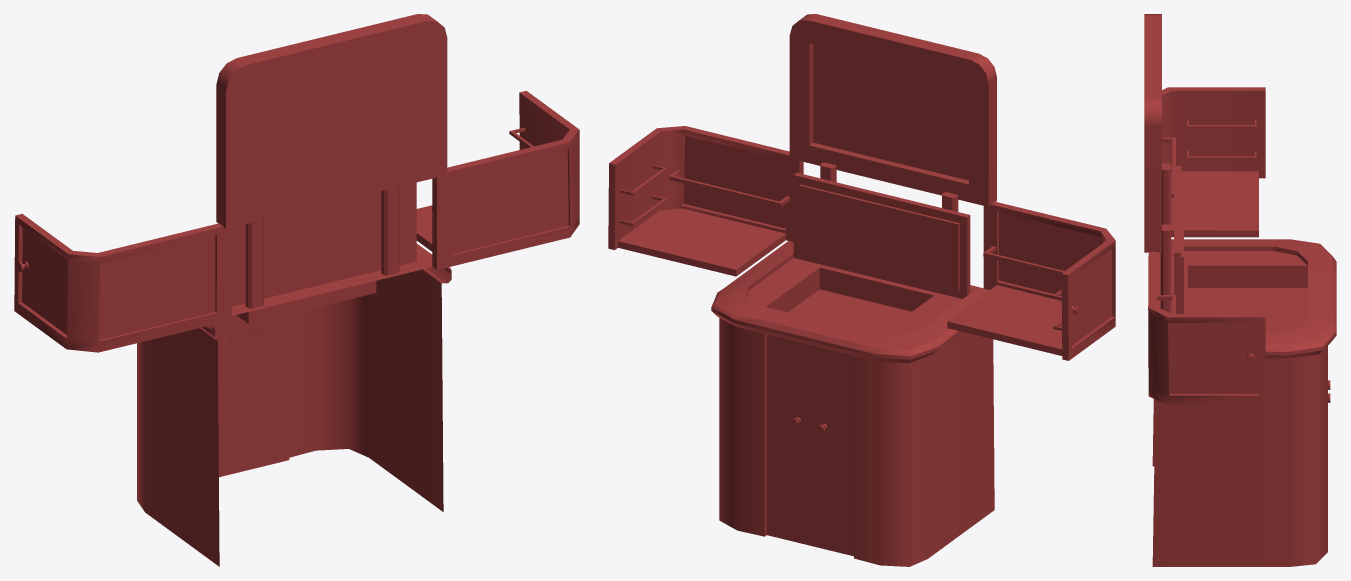
The model's file is Barskåp.fbx.
The picture shows the model from 3 angles, left to right: view 1: azimuth 30°, elevation 25°; view 2: azimuth 150°, elevation 25°; view 3: azimuth 270°, elevation 25°; orthographic projection. The views are drawn at different scales.
Parts seen in each view (by area): view 1: polySurface41; view 2: polySurface41; view 3: polySurface41.
Part boxes in pixels (box(x1,y1,x2,y2)): polySurface41: box(14, 14, 579, 566); polySurface41: box(608, 14, 1115, 566); polySurface41: box(1144, 14, 1336, 566).
Bounding box in the file's own units: 89.54 × 82.39 × 31.2.
